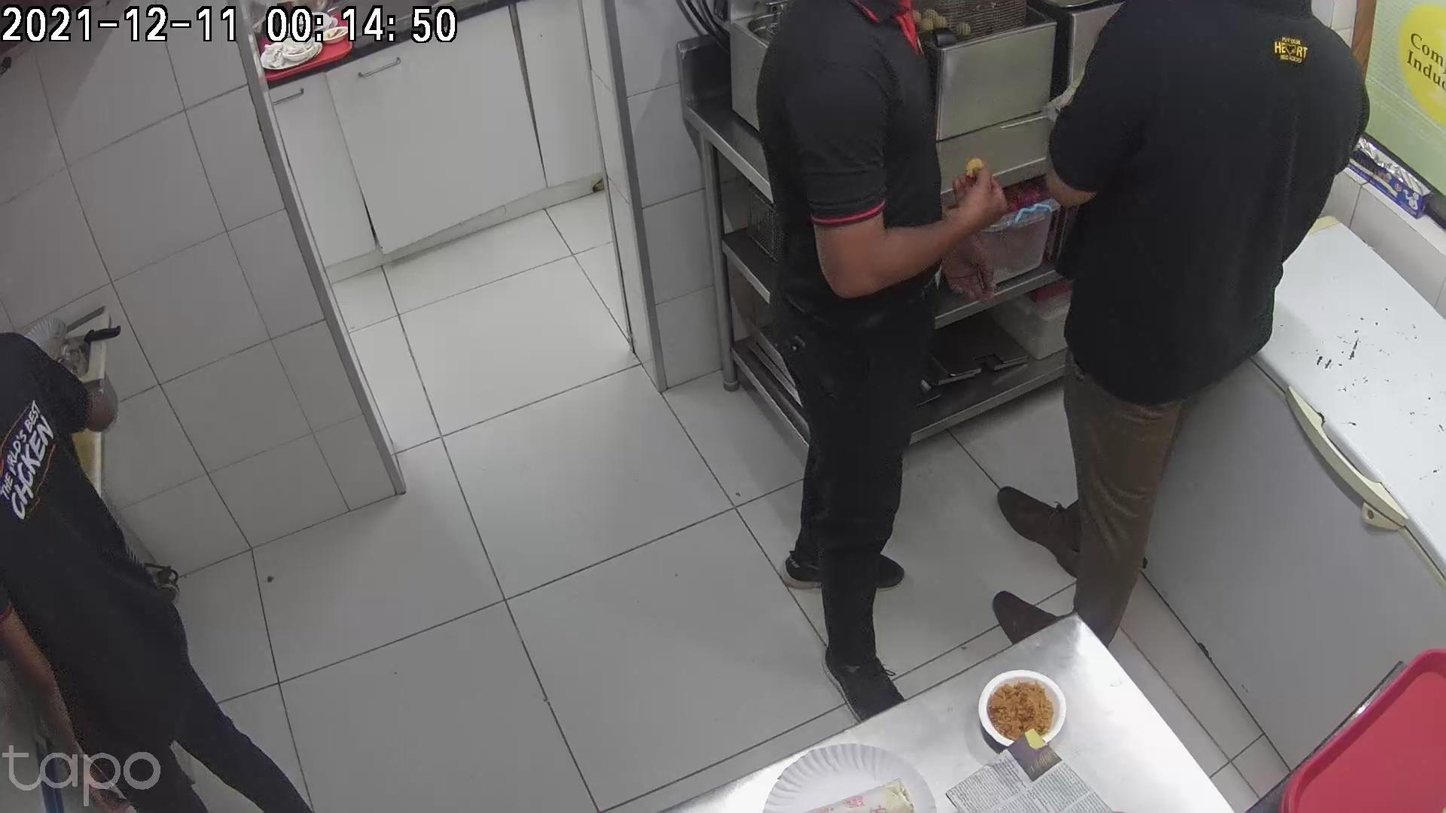no_gloves: (518, 358, 580, 471)
